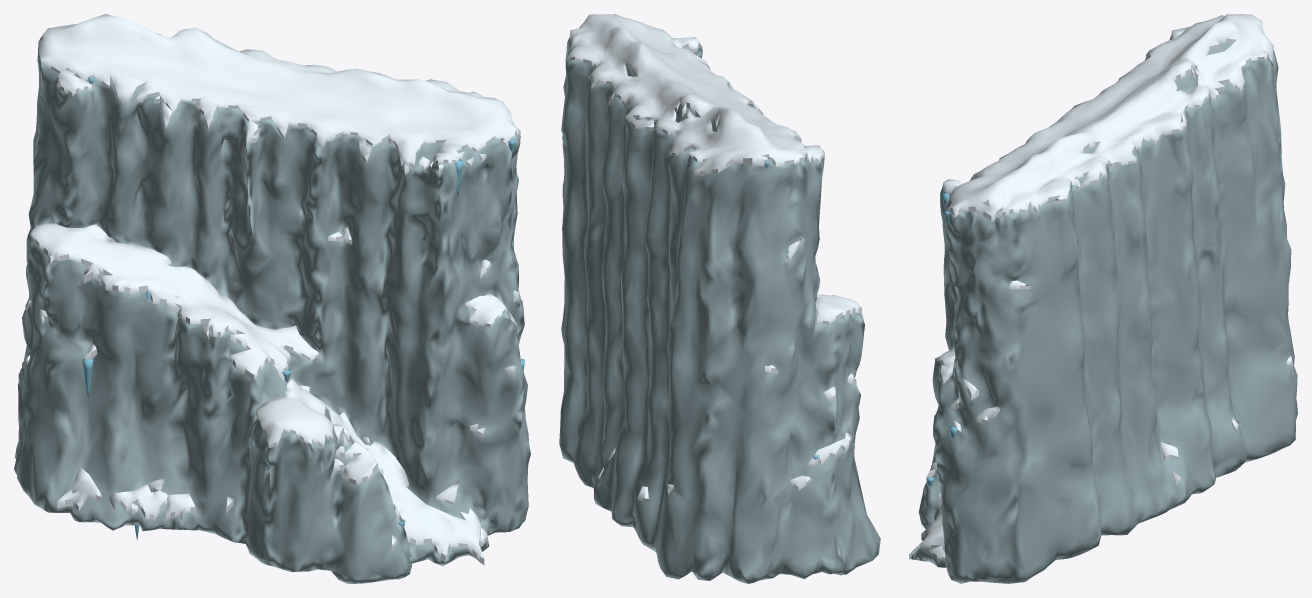
The model's file is ThirdRoom_CliffTower.fbx.
3 renders of one model, left to right at view 1: azimuth 30°, elevation 25°; view 2: azimuth 150°, elevation 25°; view 3: azimuth 270°, elevation 25°, orthographic. The views are drawn at different scales.
Visible parts, largest first — view 1: ThirdRoom_CliffTower_LOD0; view 2: ThirdRoom_CliffTower_LOD0; view 3: ThirdRoom_CliffTower_LOD0.
Part boxes in pixels (x1,y1,x2,y2): ThirdRoom_CliffTower_LOD0: [14, 14, 530, 583]; ThirdRoom_CliffTower_LOD0: [559, 14, 880, 583]; ThirdRoom_CliffTower_LOD0: [909, 14, 1297, 583].
Size of what is drawn, in the model's own units: 5.18 by 6.07 by 4.8.
